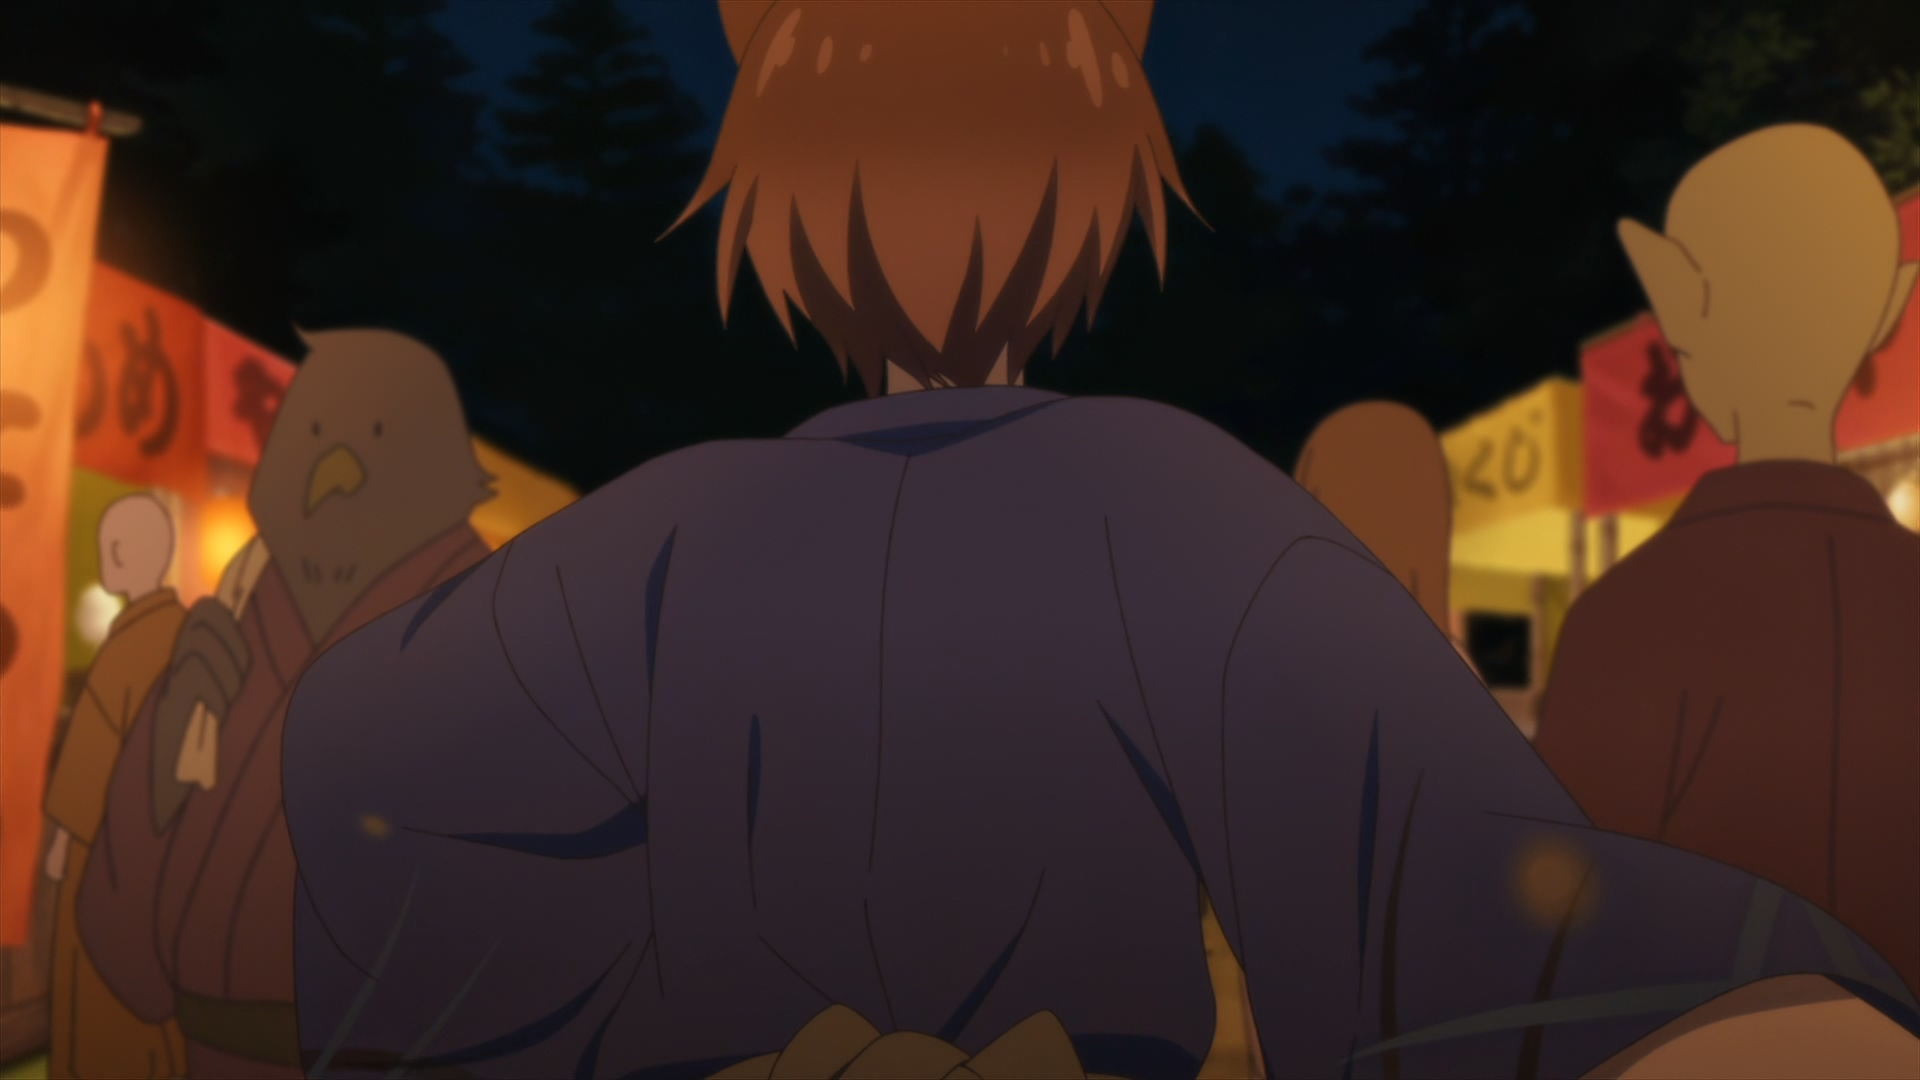其他: (1538, 124, 1920, 1026), (75, 328, 498, 1080), (46, 495, 186, 1080)
枣: (282, 1, 1920, 1080)
